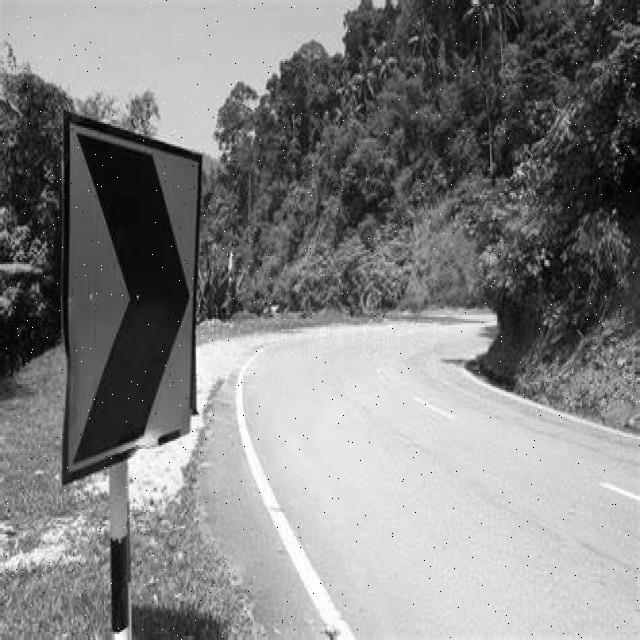chevron_right: (58, 114, 205, 485)
